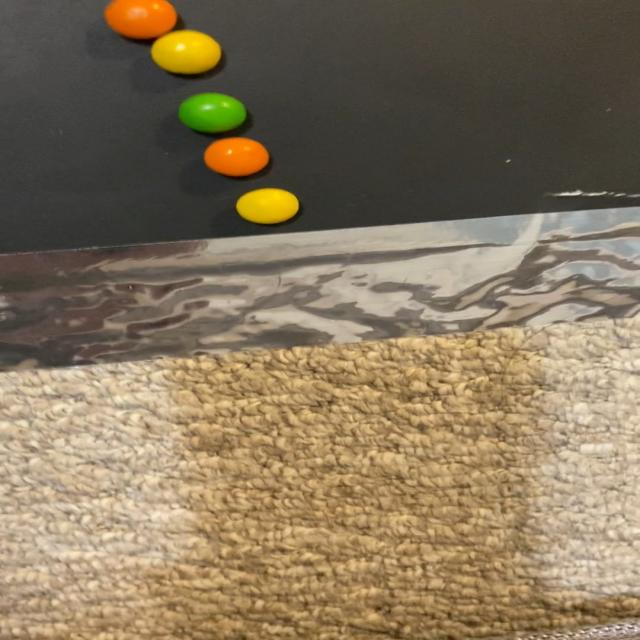smartie: (150, 29, 220, 74), (177, 92, 245, 133), (103, 0, 175, 38), (203, 137, 268, 176), (235, 188, 298, 224)
